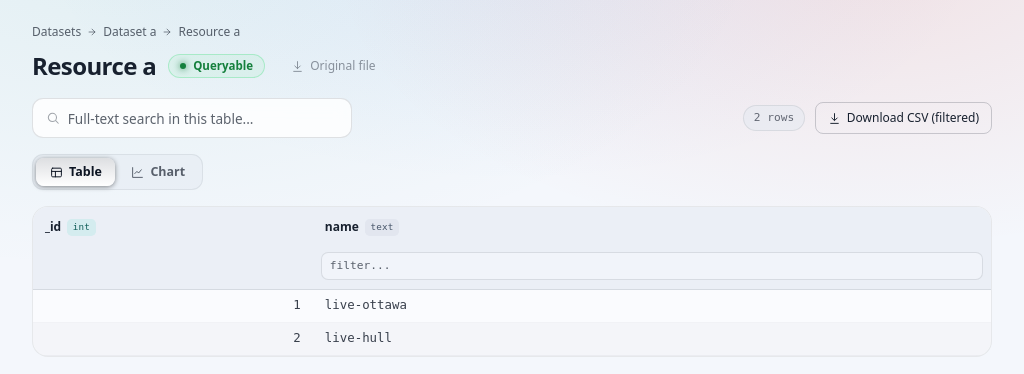
Test: ResourcePage navigation › a small live table answers a contains filter in the browser, with no preparation
Expected: the text "live-ottawa" is shown, [313,290,991,323]
Type "hull" into the field labelled "filter..." at (652, 266), box [321,252,983,280]
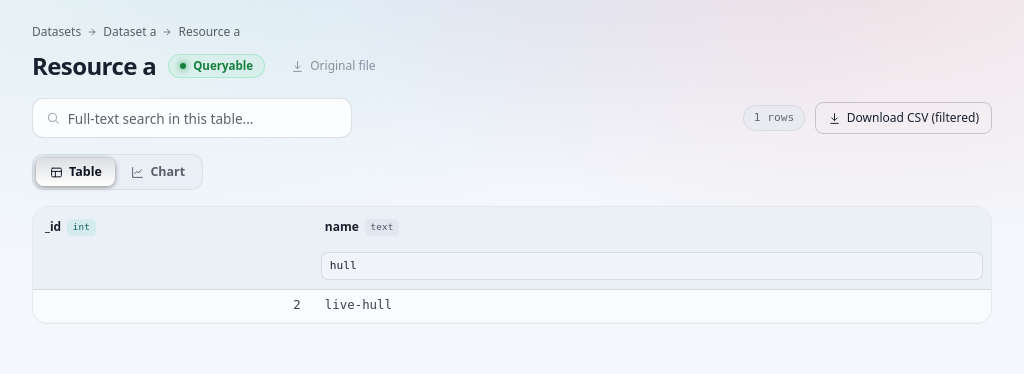
Expected: the button "Download CSV (filtered)" is shown, [815,102,992,134]
Now the text "live-ottawa" is gone
Now the text "live-hull" is shown, box [313,290,991,323]
